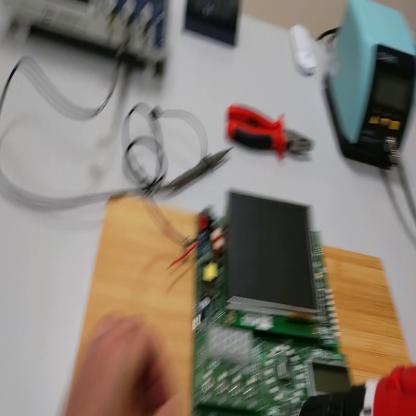electric screwdriver: (303, 362, 415, 413)
hand: (60, 316, 185, 416)
low voltage board: (166, 183, 362, 415)
oscilloscope: (9, 2, 171, 78)
oscilloscope probe tip: (169, 140, 234, 189)
pliers: (227, 100, 315, 163)
welder station: (325, 2, 416, 170)
working area: (73, 186, 416, 416)
